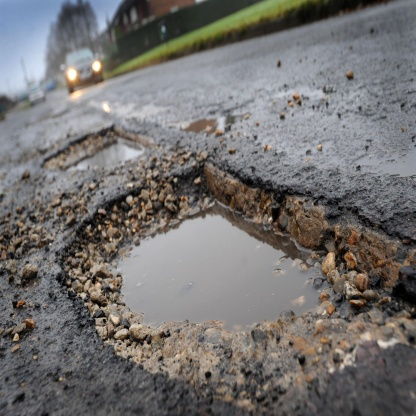pothole: (49, 147, 412, 408), (23, 107, 175, 185)
